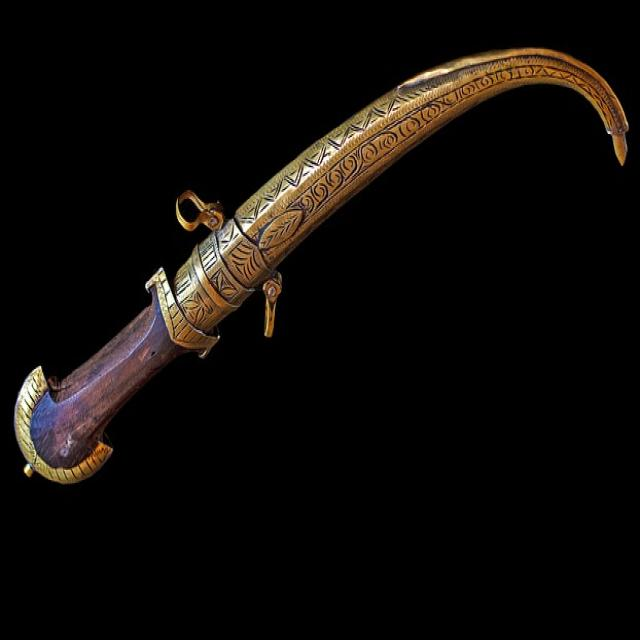Gun: (0, 54, 640, 490)
